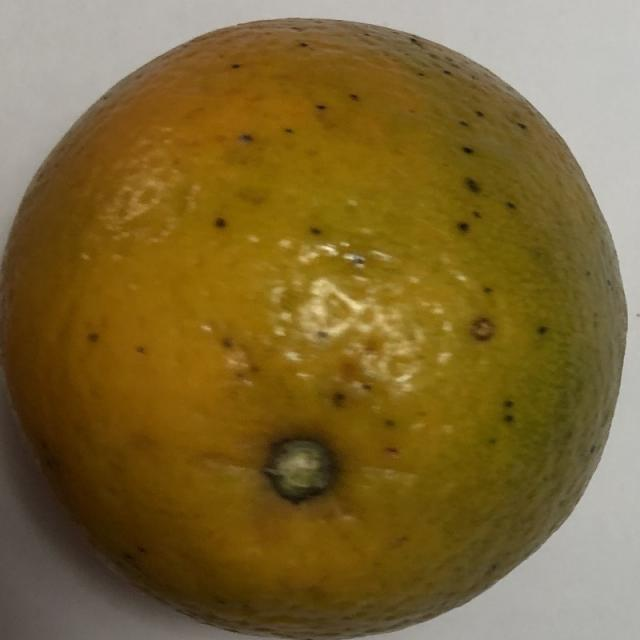blackspot: (12, 10, 640, 638)
